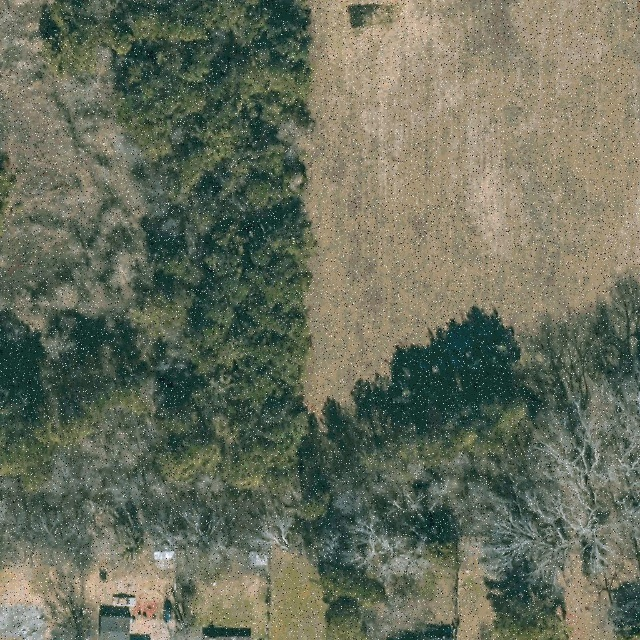vegetation: (0, 1, 640, 640)
